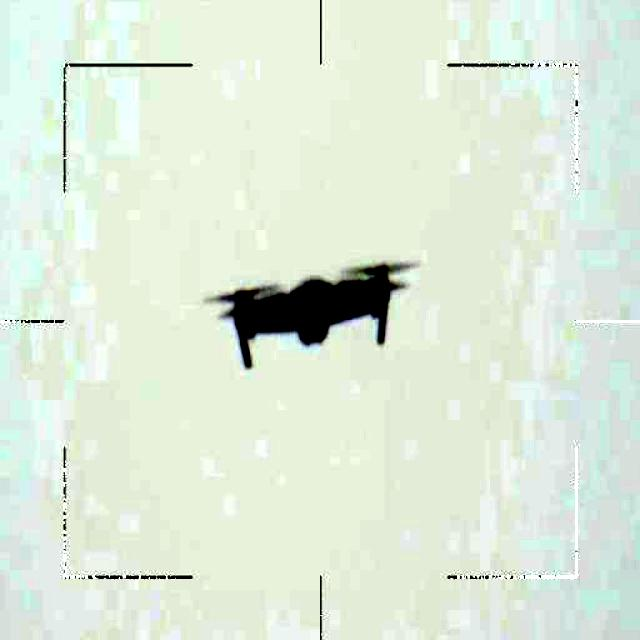bird: (199, 254, 420, 375)
